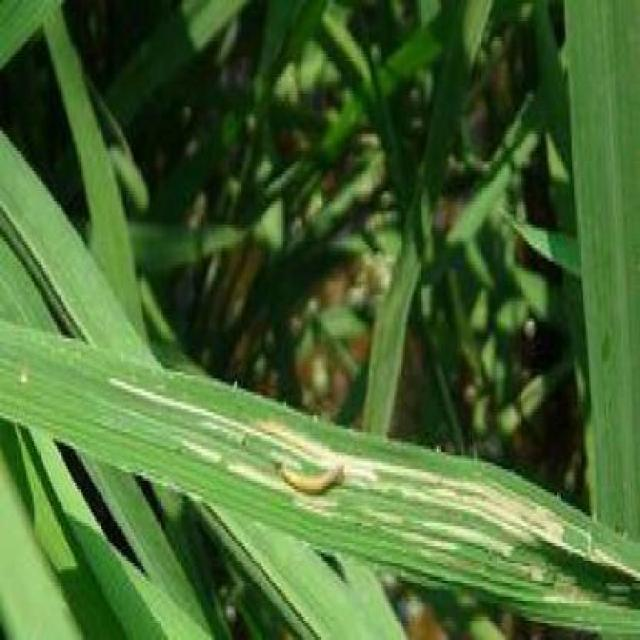leaf-folder: (269, 442, 349, 512)
